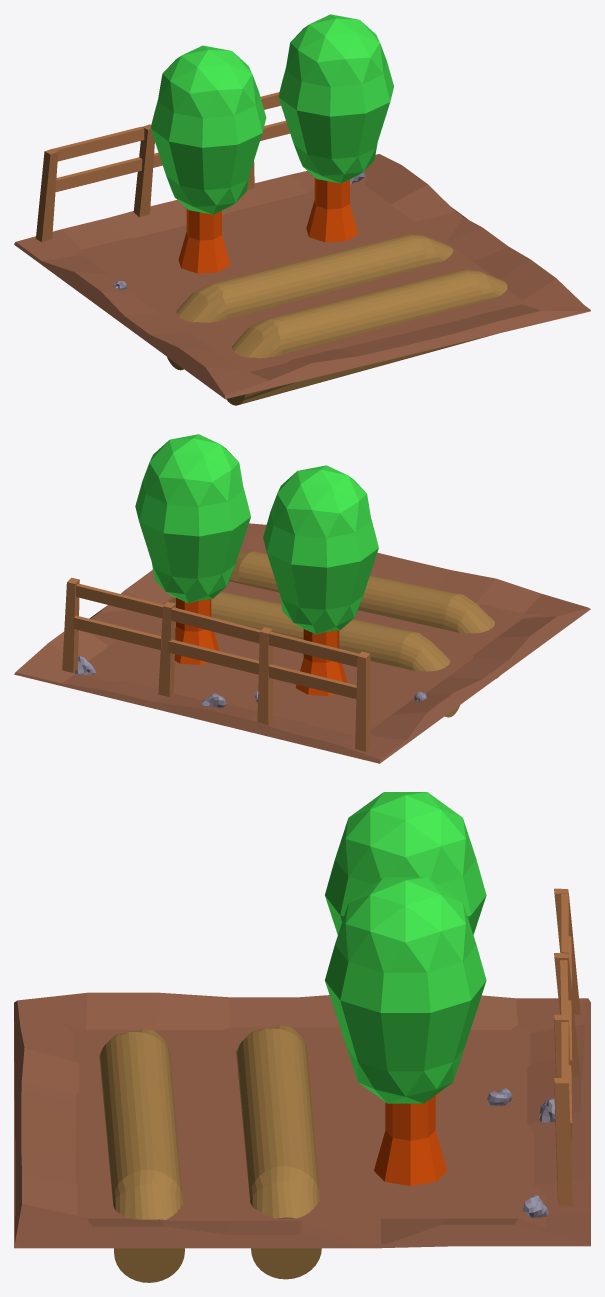
The model's file is brownfieldfence1.fbx.
3 views of the same model, one above another, from view 1: azimuth 30°, elevation 25°; view 2: azimuth 150°, elevation 25°; view 3: azimuth 270°, elevation 25° (orthographic). The views are drawn at different scales.
Parts seen in each view (by area): view 1: Cube.033; view 2: Cube.033; view 3: Cube.033.
Boxes of the visible parts, box(x1,y1,x2,y2) form: Cube.033: box(14, 14, 590, 405); Cube.033: box(14, 434, 590, 763); Cube.033: box(14, 792, 590, 1282).
Bounding box in the file's own units: 977 × 669 × 977.
